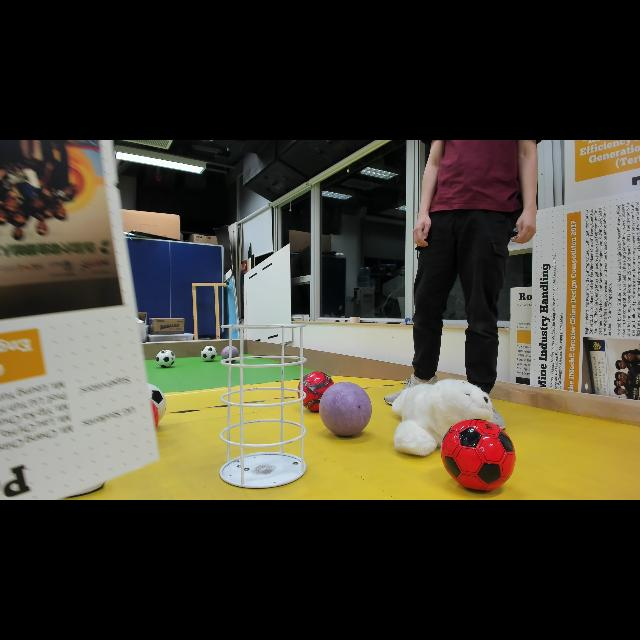P: (318, 382, 374, 438), (220, 343, 240, 365)
R: (439, 415, 518, 495), (295, 366, 339, 416)
S: (218, 321, 314, 489)
